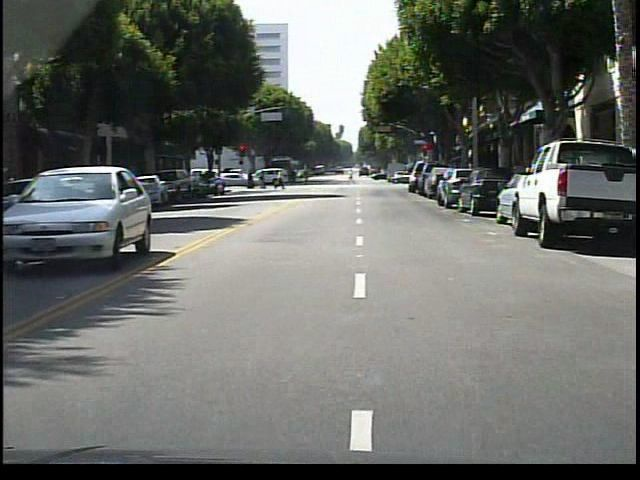person: (272, 165, 292, 194)
